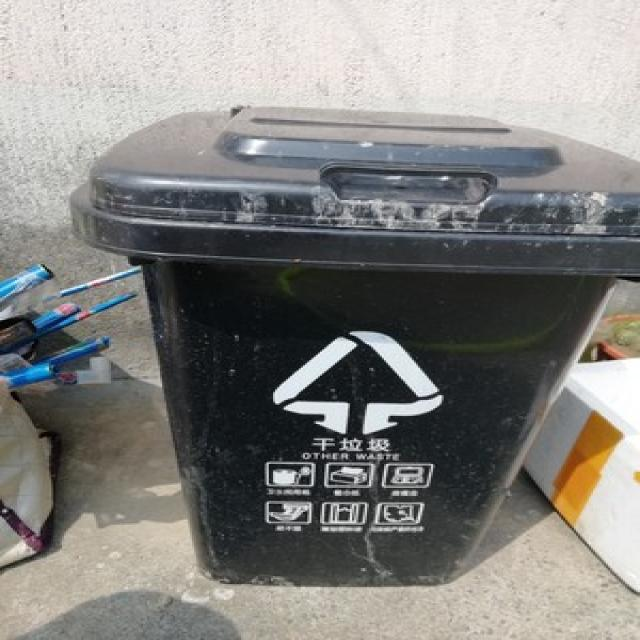ash bin: (66, 102, 634, 589)
